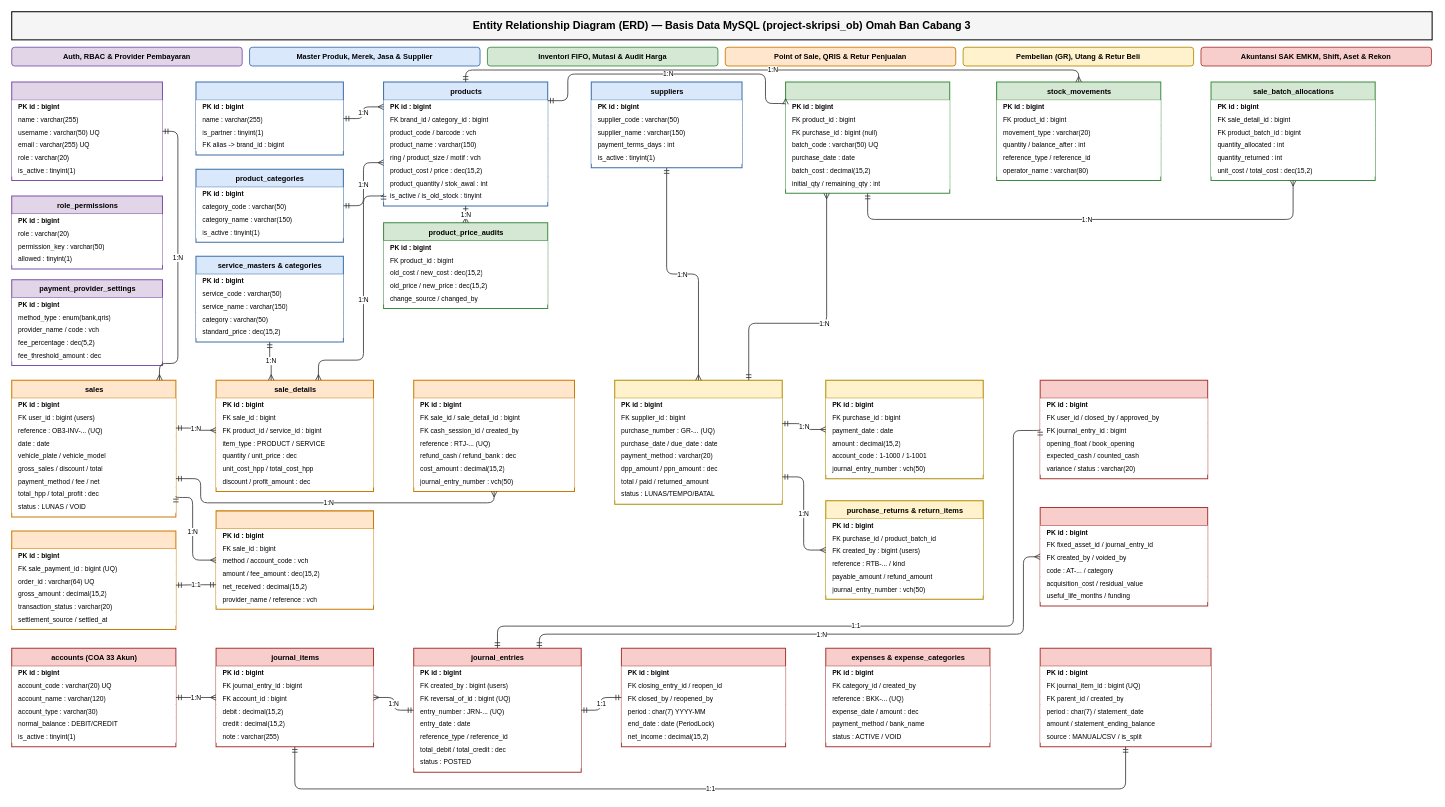
Image size: 1445x807. Some labels were removed from this diagram. Each missing label, with the box of its shape:
accounting_period_closings: (621, 647, 786, 747)
bank_reconciliations & statement_lines: (1039, 647, 1211, 747)
brands & brand_aliases: (195, 81, 344, 155)
cash_sessions (Shift Kasir): (1039, 379, 1208, 479)
fixed_assets & depreciations: (1039, 507, 1208, 606)
product_batches (FIFO): (785, 81, 950, 193)
purchase_payments: (825, 379, 983, 479)
purchases (Goods Receipt): (614, 379, 782, 504)
qris_transactions: (11, 530, 176, 630)
sale_payments: (215, 510, 374, 610)
sales_returns & sales_return_items: (413, 379, 575, 492)
users: (11, 81, 163, 181)
